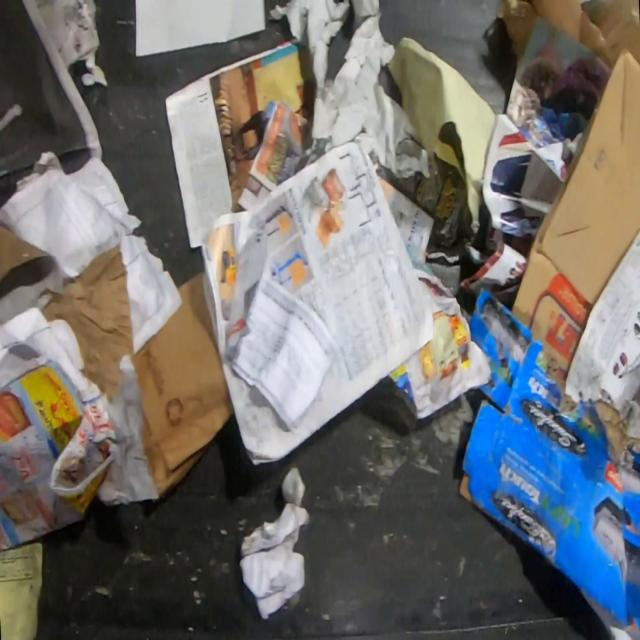cardboard: (456, 283, 640, 640), (510, 44, 640, 378), (0, 218, 50, 284), (495, 0, 539, 61)
soft_plastic: (528, 0, 640, 69)
